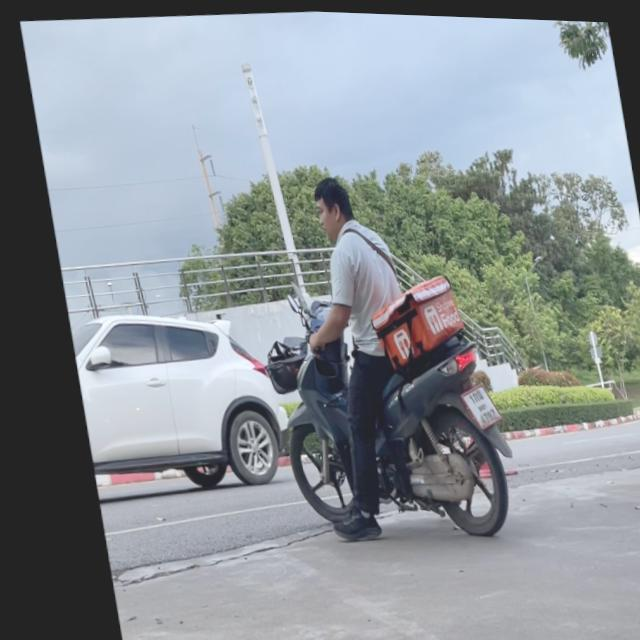seatbelt: (304, 170, 355, 244)
